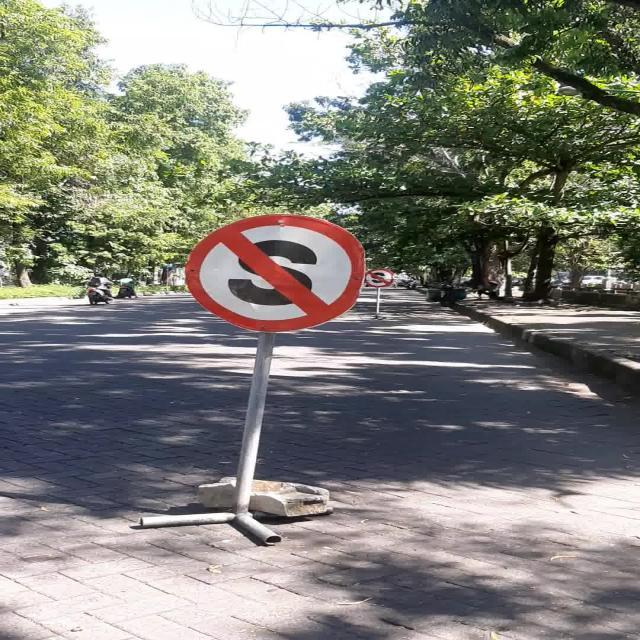Dilarang Berhenti: (185, 214, 365, 332)
